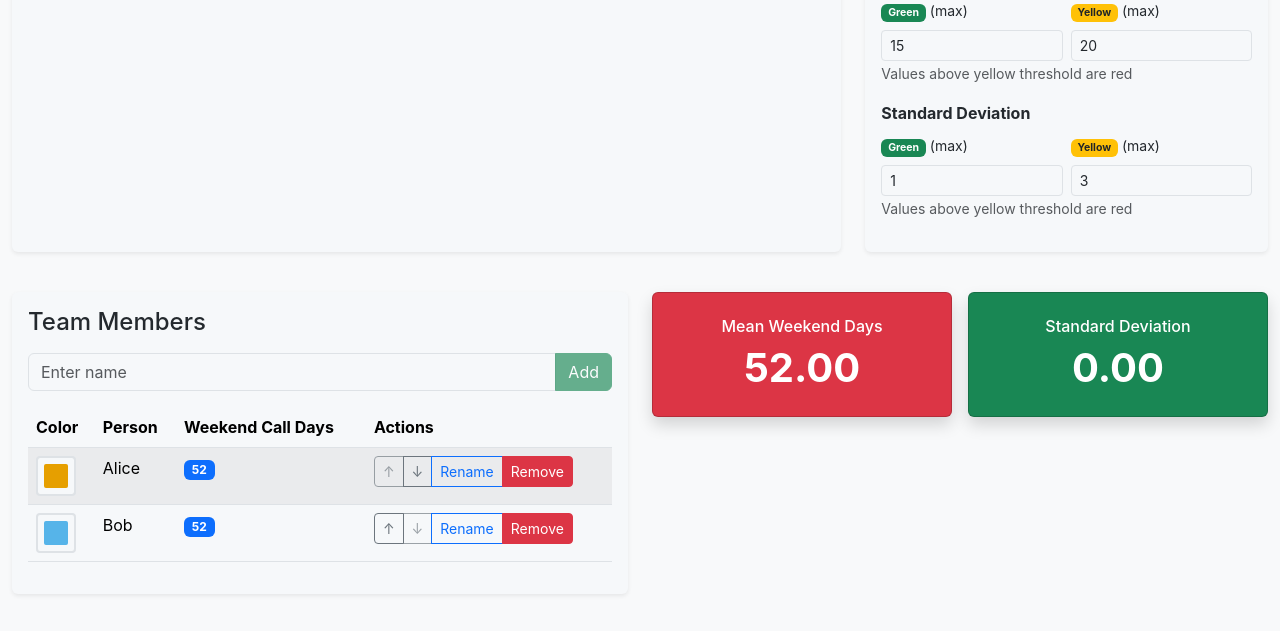
it: App › localStorage functionality › updates localStorage when team member is removed
(page scrolled)
// Find and click the first Remove button
Step 1. Click the 1st button "Remove" → (537,471), box [502,456,573,487]
(page scrolled)
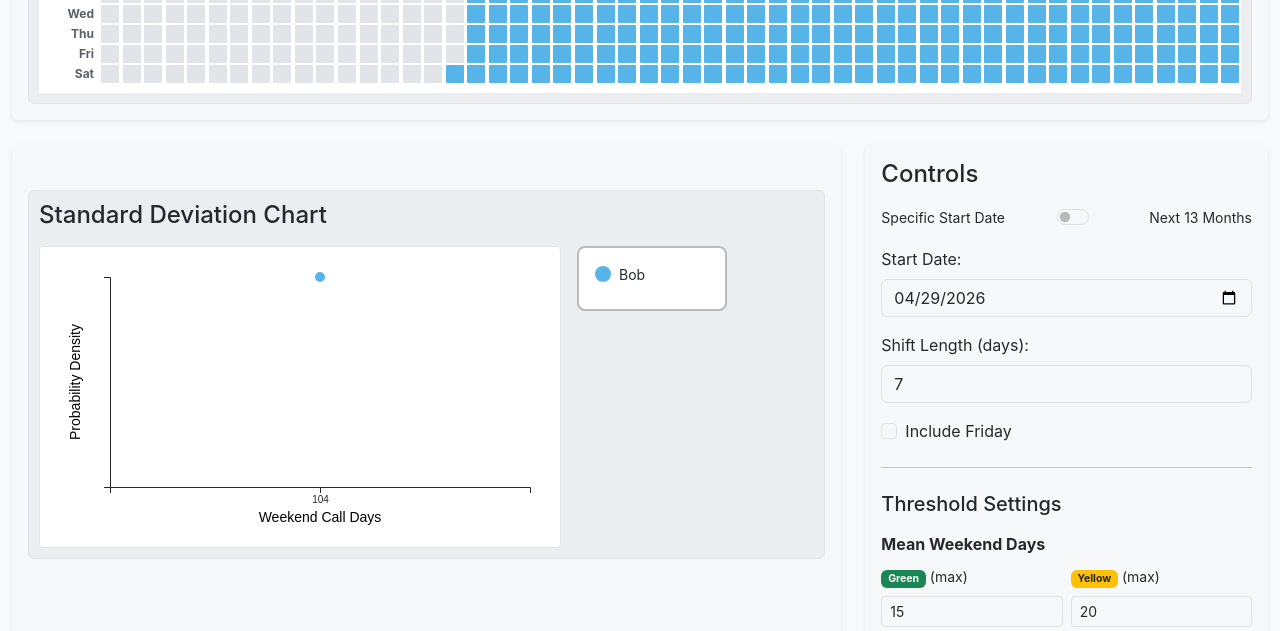
Expected: the text "Bob" is shown, [619,264,645,285]
